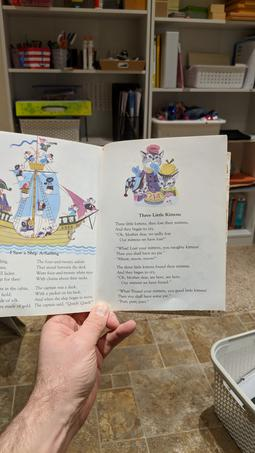text block: (109, 208, 210, 308), (31, 257, 96, 310), (1, 260, 37, 314)
